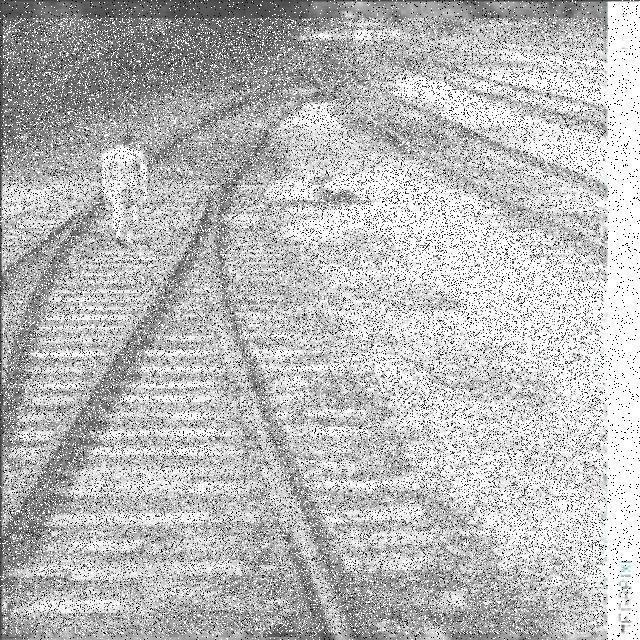rail: (4, 19, 603, 634)
